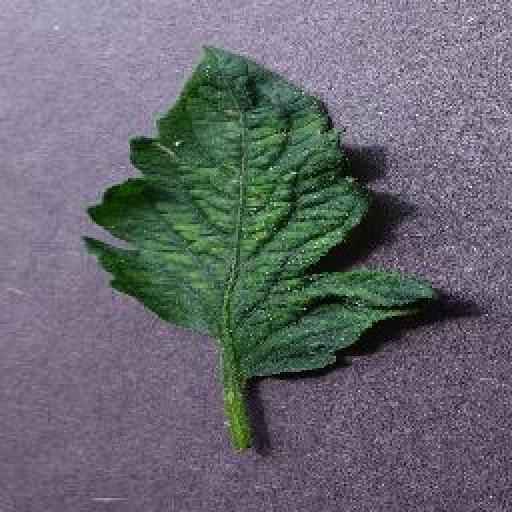Mosaic Virus: (83, 44, 441, 382)
